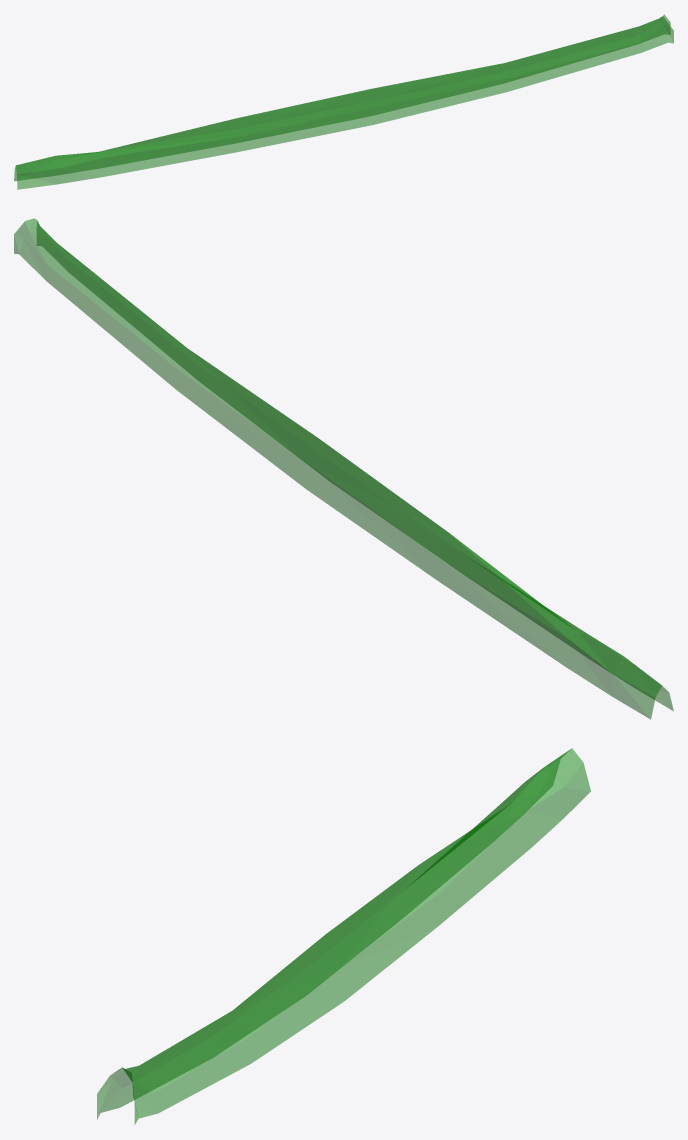
File: wall5.obj
The picture shows the model from 3 angles, top to bottom: view 1: azimuth 30°, elevation 25°; view 2: azimuth 150°, elevation 25°; view 3: azimuth 270°, elevation 25°; orthographic projection. The views are drawn at different scales.
Size of the model in its own units: 126 by 26.69 by 49.2.
